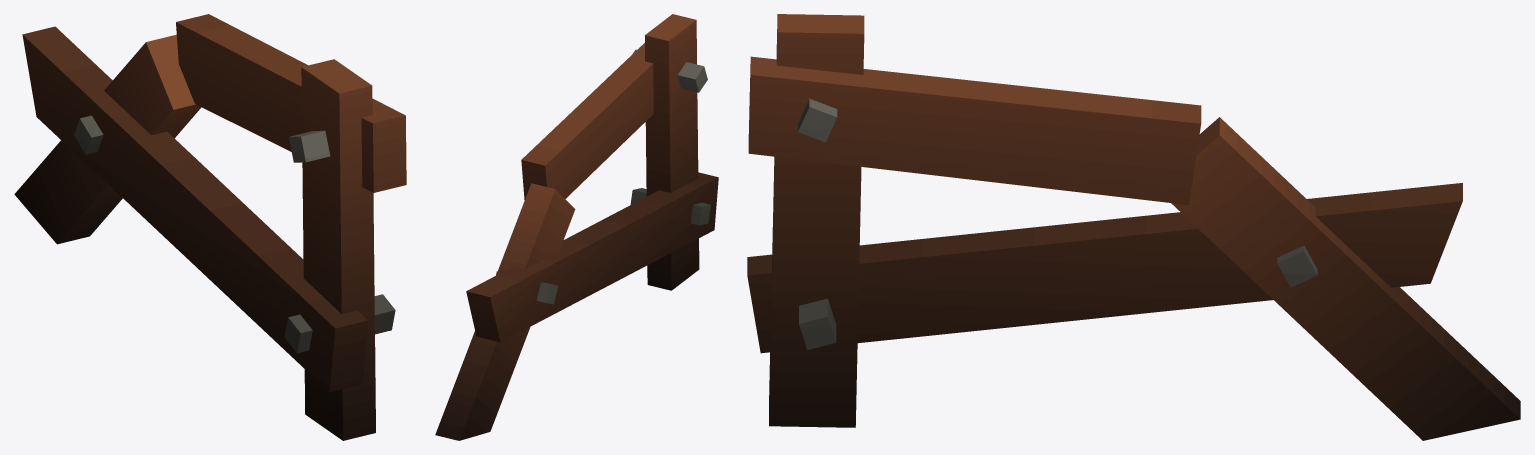
File: FenceCapa1.glb
3 renders of one model, left to right at view 1: azimuth 30°, elevation 25°; view 2: azimuth 150°, elevation 25°; view 3: azimuth 270°, elevation 25°, orthographic. The views are drawn at different scales.
Parts seen in each view (by area): view 1: FenceCapa1.col; view 2: FenceCapa1.col; view 3: FenceCapa1.col.
Boxes of the visible parts, x1=… form: FenceCapa1.col: x1=14, y1=14, x2=406, y2=440; FenceCapa1.col: x1=435, y1=14, x2=718, y2=440; FenceCapa1.col: x1=747, y1=14, x2=1520, y2=440.
Bounding box in the file's own units: 0.3603 × 1.24 × 2.14.
1 material, 1 textured.
